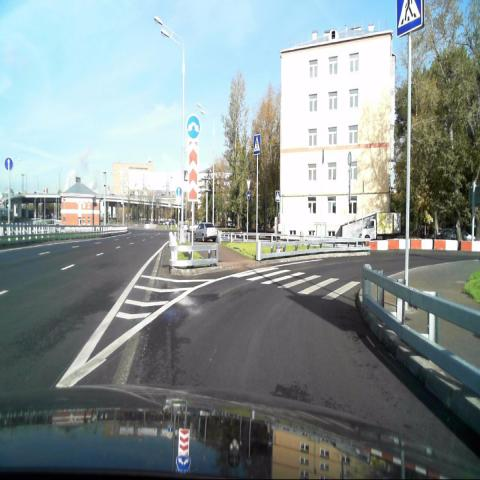4_2_3: (186, 114, 201, 141)
